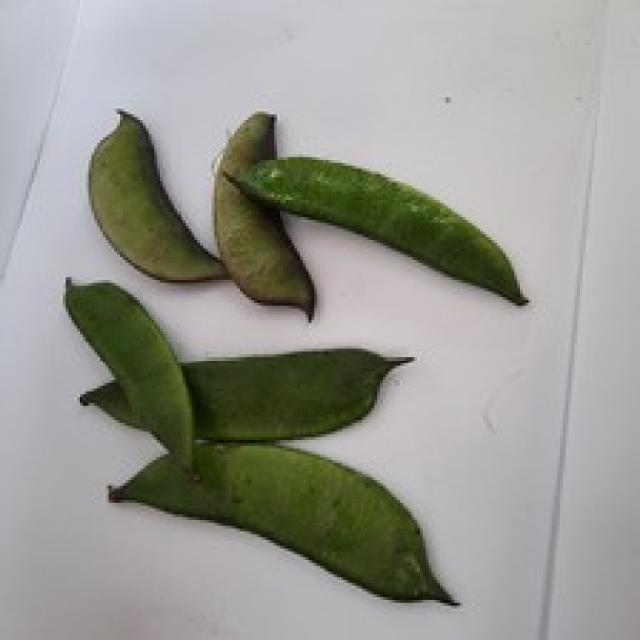Bean: (106, 437, 460, 606), (223, 151, 528, 306), (77, 343, 414, 443), (60, 274, 194, 474), (85, 106, 228, 283), (212, 109, 314, 320)
